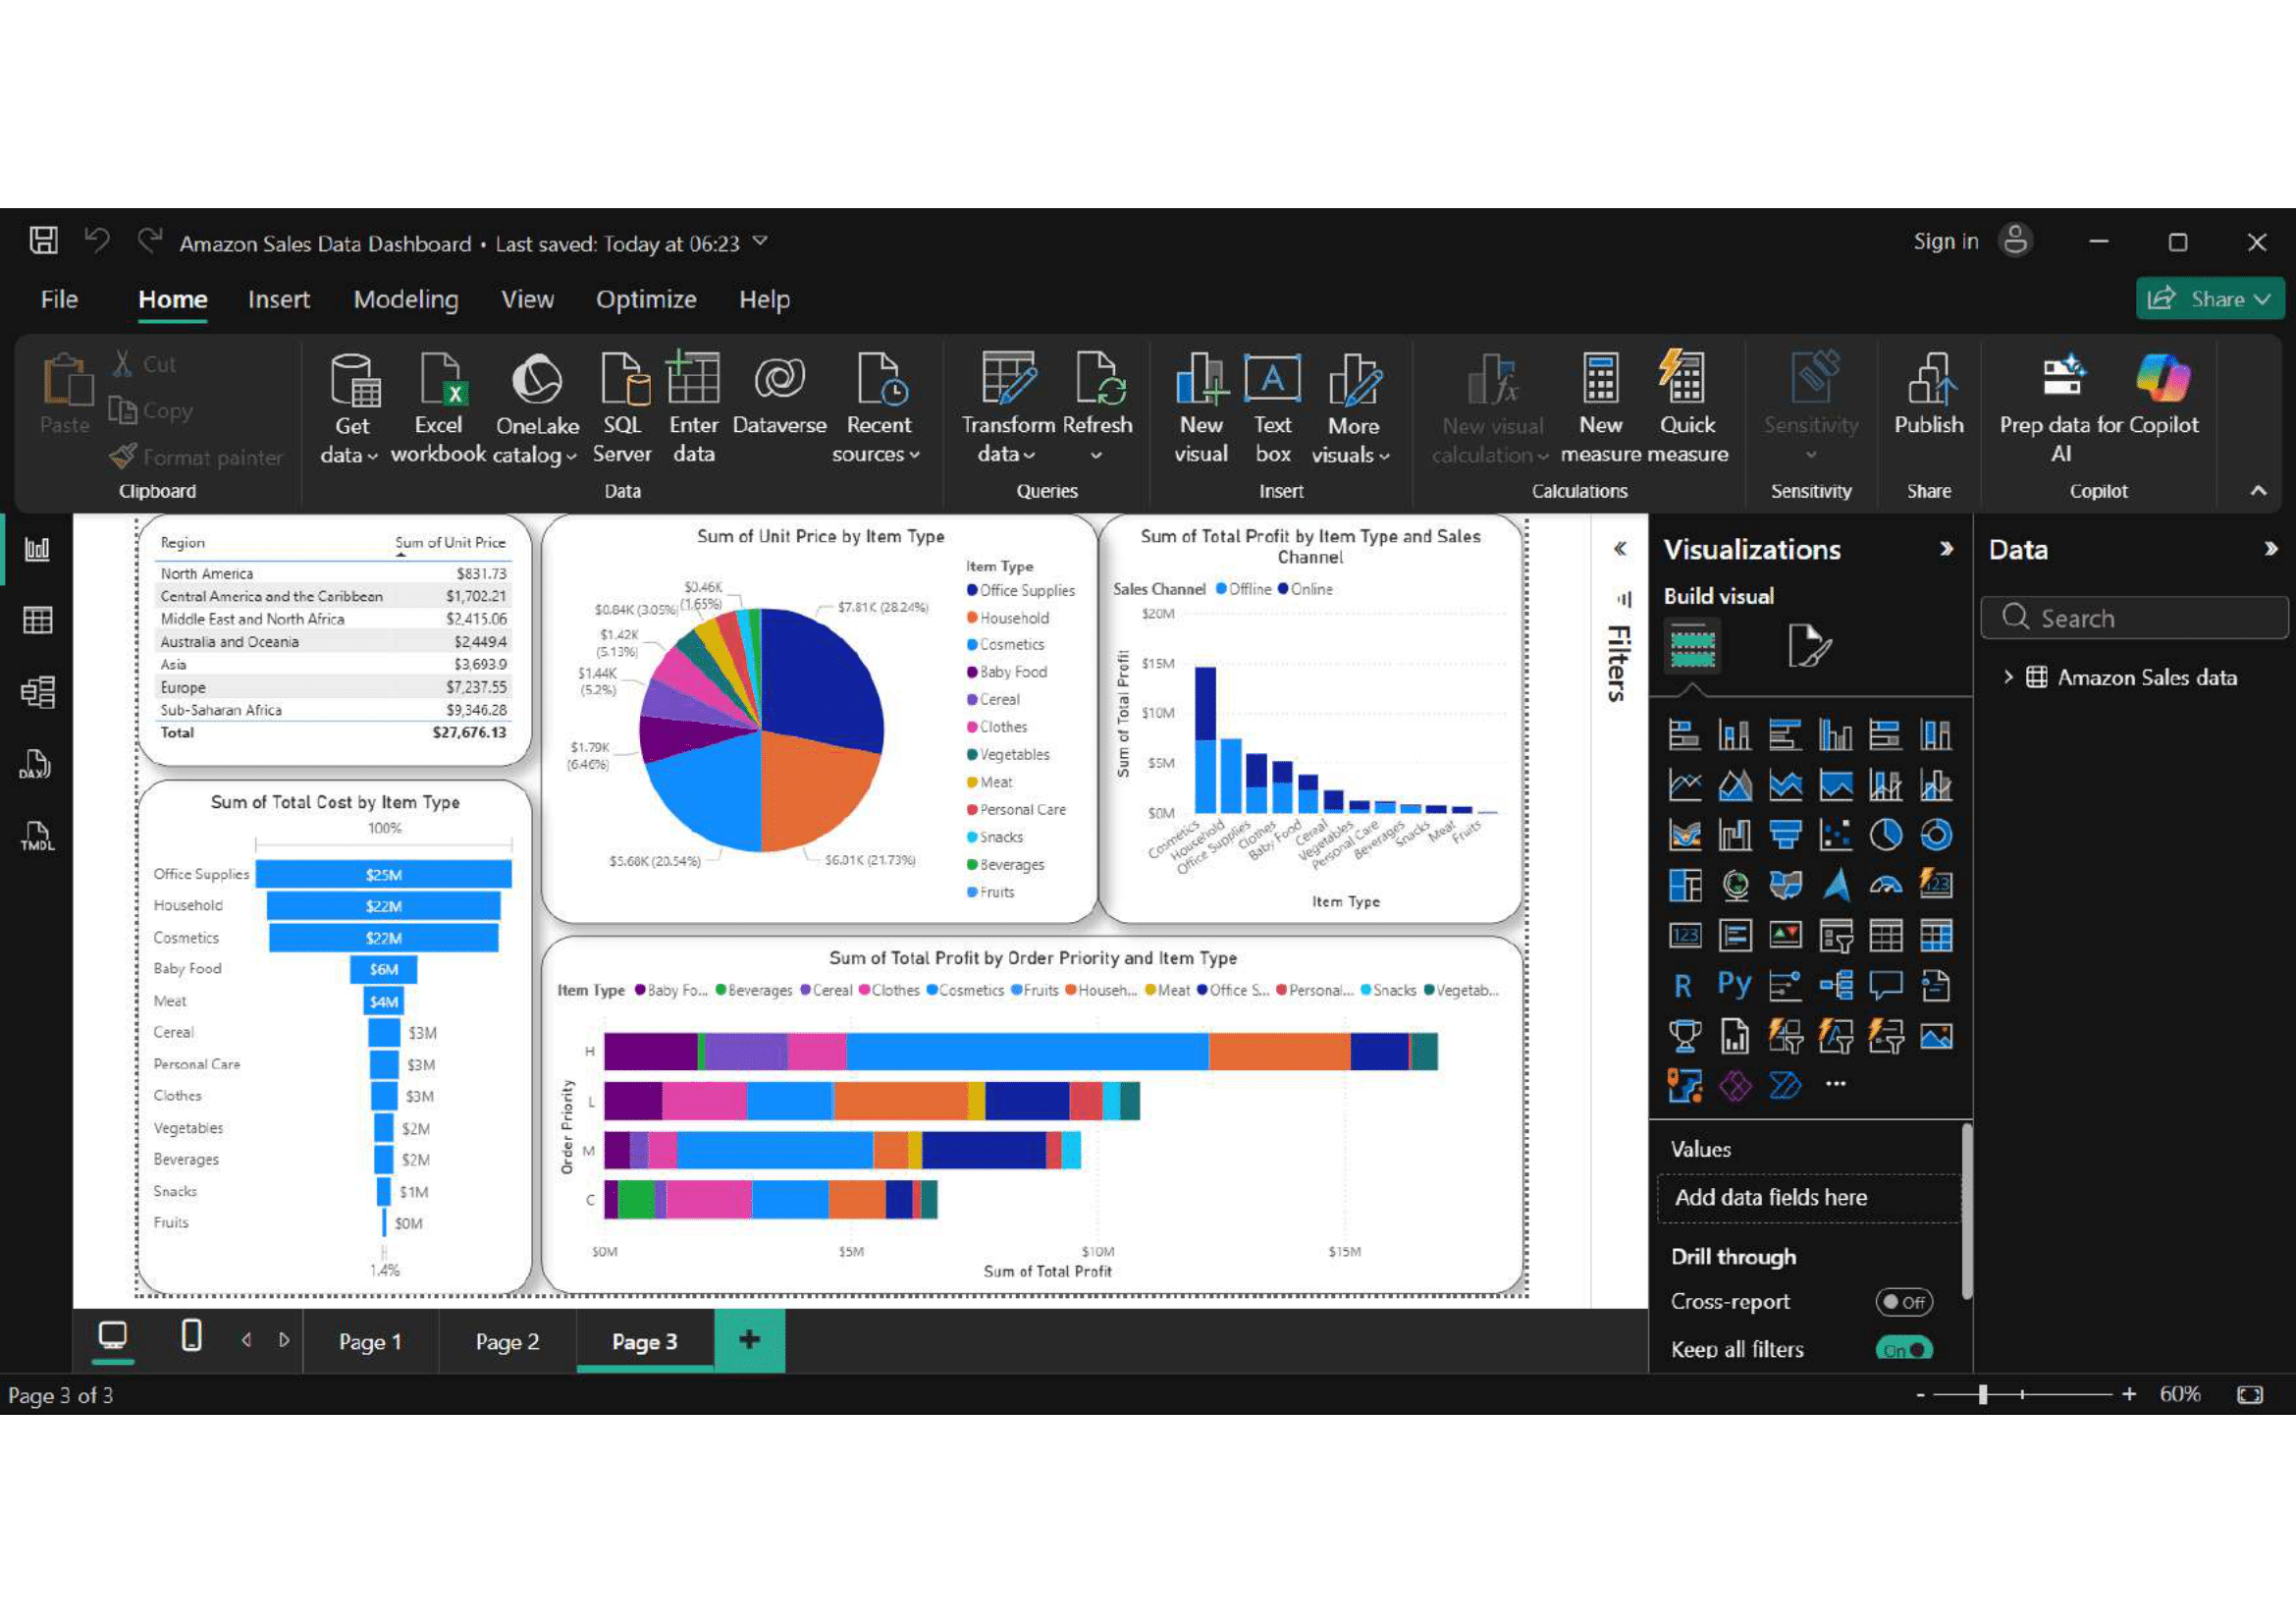

What the dashboard file says about the page in this screenshot:
{"tool":"powerbi","page":{"name":"Page 3","canvas":[1280,720],"ordinal":2},"visuals":[{"type":"tableEx","fields":{"Values":["Amazon Sales data.Region","Sum(Amazon Sales data.Unit Price)"]},"box":[0,0,364,233.6],"z":0},{"type":"pieChart","fields":{"Category":["Amazon Sales data.Item Type"],"Y":["Sum(Amazon Sales data.Unit Price)"]},"box":[371.9,0,515,378.3],"z":1000},{"type":"funnel","fields":{"Category":["Amazon Sales data.Item Type"],"Y":["Sum(Amazon Sales data.Total Cost)"]},"box":[0,244.8,364,475.2],"z":2000},{"type":"barChart","fields":{"Category":["Amazon Sales data.Order Priority"],"Y":["Sum(Amazon Sales data.Total Profit)"],"Series":["Amazon Sales data.Item Type"]},"box":[371.9,389.4,907.5,330.6],"z":3000},{"type":"lineStackedColumnComboChart","fields":{"Category":["Amazon Sales data.Item Type"],"Y":["Sum(Amazon Sales data.Total Profit)"],"Series":["Amazon Sales data.Sales Channel"]},"box":[886.9,0,392.6,378.3],"z":4000}]}

Visuals, with their boxes on the page's 1280x720 design canvas (x1, y1, x2, y2). These are canvas units, not pixel positions in the 2296x1623 screenshot, which may show the page scaled, cropped or inside an application window:
tableEx - Amazon Sales data.Region x Sum(Amazon Sales data.Unit Price): rect(0, 0, 364, 234)
pieChart - Amazon Sales data.Item Type x Sum(Amazon Sales data.Unit Price): rect(372, 0, 887, 378)
funnel - Amazon Sales data.Item Type x Sum(Amazon Sales data.Total Cost): rect(0, 245, 364, 720)
barChart - Amazon Sales data.Order Priority x Sum(Amazon Sales data.Total Profit): rect(372, 389, 1279, 720)
lineStackedColumnComboChart - Amazon Sales data.Item Type x Sum(Amazon Sales data.Total Profit): rect(887, 0, 1280, 378)
